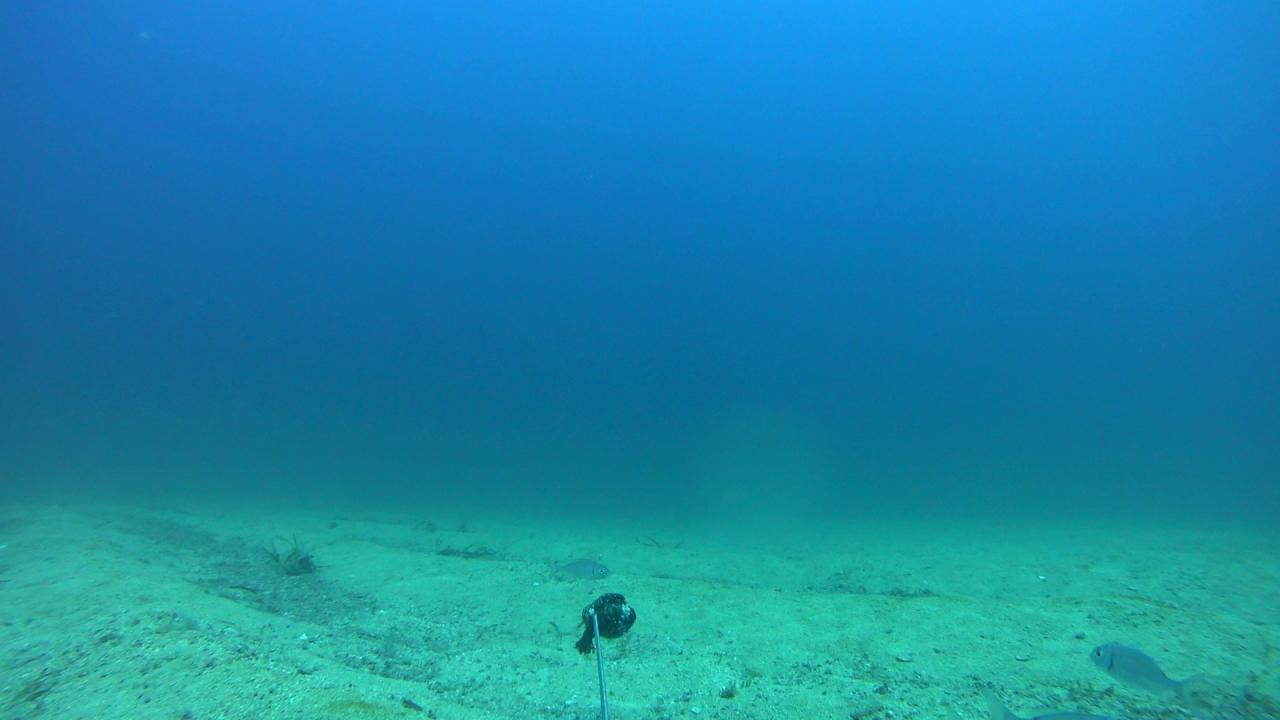pagellus: (1088, 640, 1207, 718), (546, 560, 608, 581)
